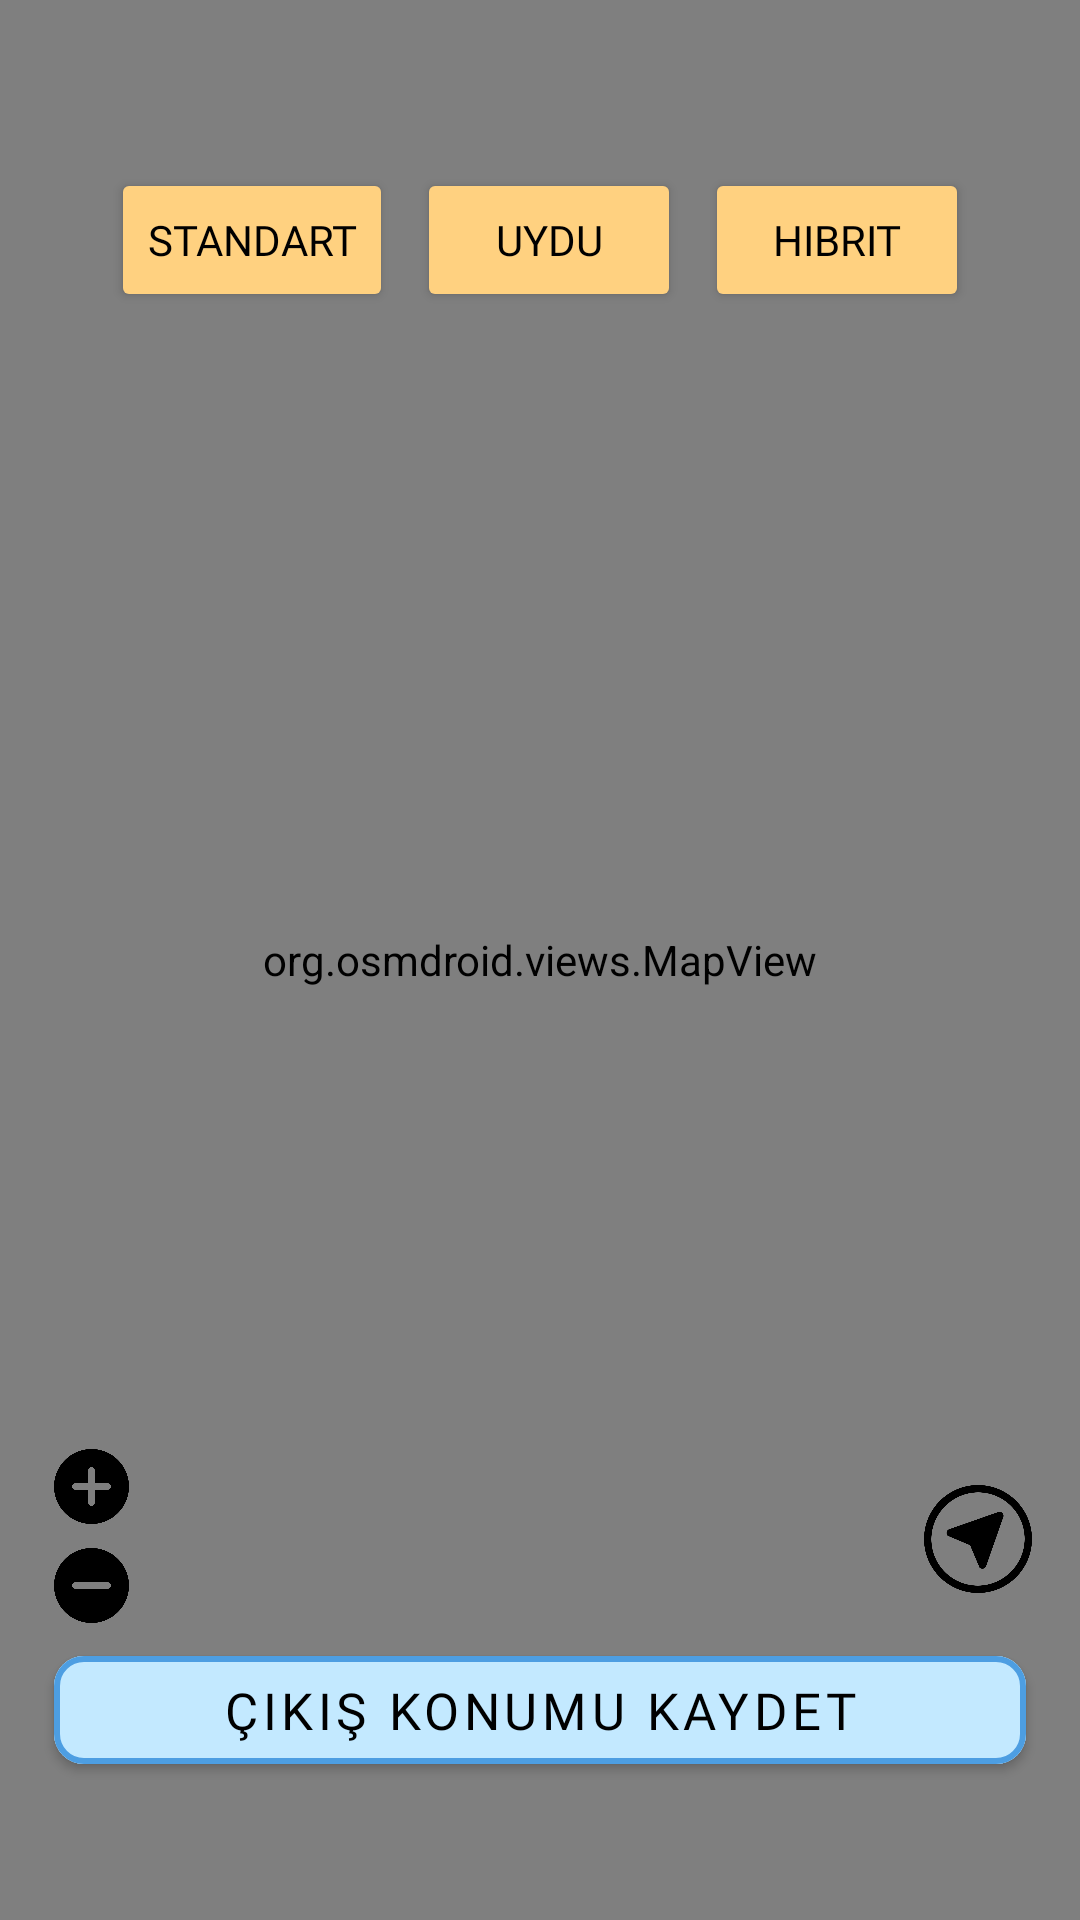

Where icons sit on this 1080×1920 app screen, as {"left": x1, "top": y1, "right": x2, "bottom": y2}:
Location Icon: {"left": 924, "top": 1485, "right": 1032, "bottom": 1593}
Zoom In: {"left": 54, "top": 1449, "right": 129, "bottom": 1524}
Zoom Out: {"left": 54, "top": 1548, "right": 129, "bottom": 1623}
